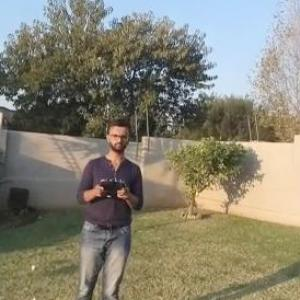follow: (74, 106, 154, 299)
